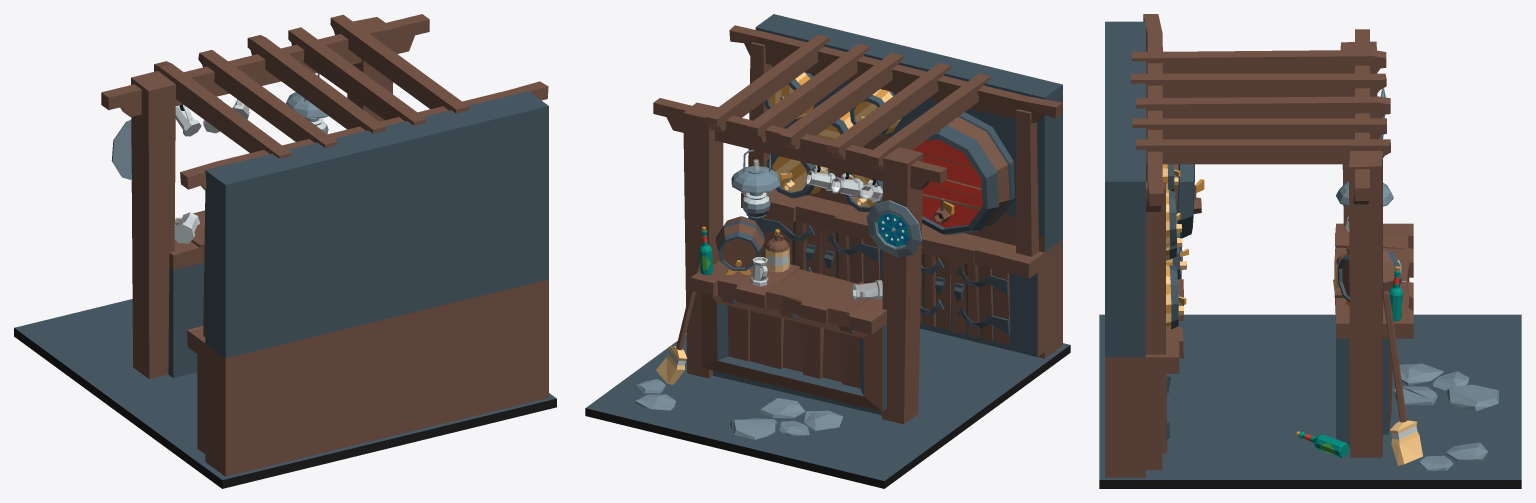
File: scene_ZquFKf6m7k.glb
3 renders of one model, left to right at view 1: azimuth 30°, elevation 25°; view 2: azimuth 150°, elevation 25°; view 3: azimuth 270°, elevation 25°, orthographic. The views are drawn at different scales.
Visible parts, largest first — view 1: group13159048, group1374036871, group491123025, group206861488, group699028654, group354575654; view 2: group1374036871, group13159048, group491123025, group21605580, group206861488, group434620024, group699028654, group142136995, group1620147781, group1757607430, group107363864, group1275392917 (+3 smaller); view 3: group491123025, group1374036871, group13159048, group1620147781, group142136995, group1757607430, group434620024, group743681828, group913661284, group1275392917, group527801200, group1316541201 (+1 smaller).
Part boxes in pixels (x1,y1,x2,y2): group13159048: (187, 91, 548, 476); group1374036871: (101, 14, 548, 379); group491123025: (14, 299, 556, 488); group206861488: (111, 119, 131, 179); group699028654: (286, 73, 328, 133); group354575654: (174, 212, 199, 243); group1374036871: (653, 25, 1062, 424); group13159048: (741, 14, 1062, 358); group491123025: (585, 328, 1070, 488); group21605580: (1016, 109, 1038, 256); group206861488: (866, 200, 921, 257); group434620024: (715, 216, 764, 274); group699028654: (731, 149, 780, 218); group142136995: (656, 242, 702, 384); group1620147781: (748, 42, 772, 166); group1757607430: (730, 418, 777, 439); group107363864: (765, 229, 789, 272); group1275392917: (759, 398, 805, 418); group491123025: (1099, 314, 1521, 488); group1374036871: (1131, 14, 1413, 457); group13159048: (1105, 21, 1201, 477); group1620147781: (1146, 182, 1165, 354); group142136995: (1382, 290, 1422, 465); group1757607430: (1447, 384, 1499, 410); group434620024: (1337, 250, 1401, 306); group743681828: (1393, 363, 1443, 385); group913661284: (1296, 431, 1349, 457); group1275392917: (1393, 386, 1437, 405); group527801200: (1446, 442, 1487, 461); group1316541201: (1389, 266, 1403, 321).
Bounding box in the file's own units: 4.33 × 3.48 × 4.29.
